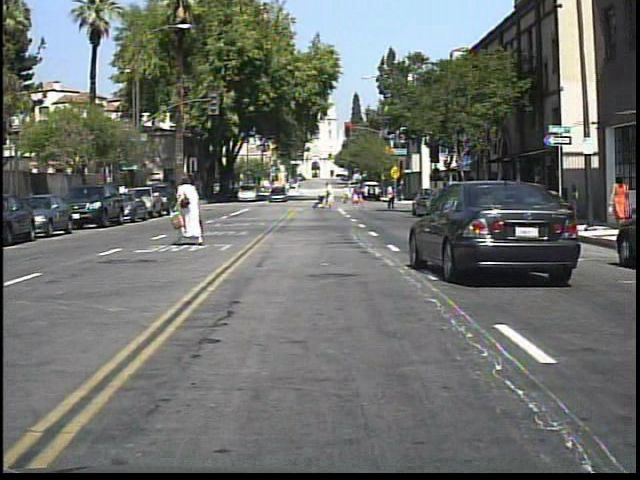person: (171, 168, 211, 251), (607, 167, 634, 228), (495, 170, 515, 220), (383, 181, 399, 212), (324, 180, 337, 210)
